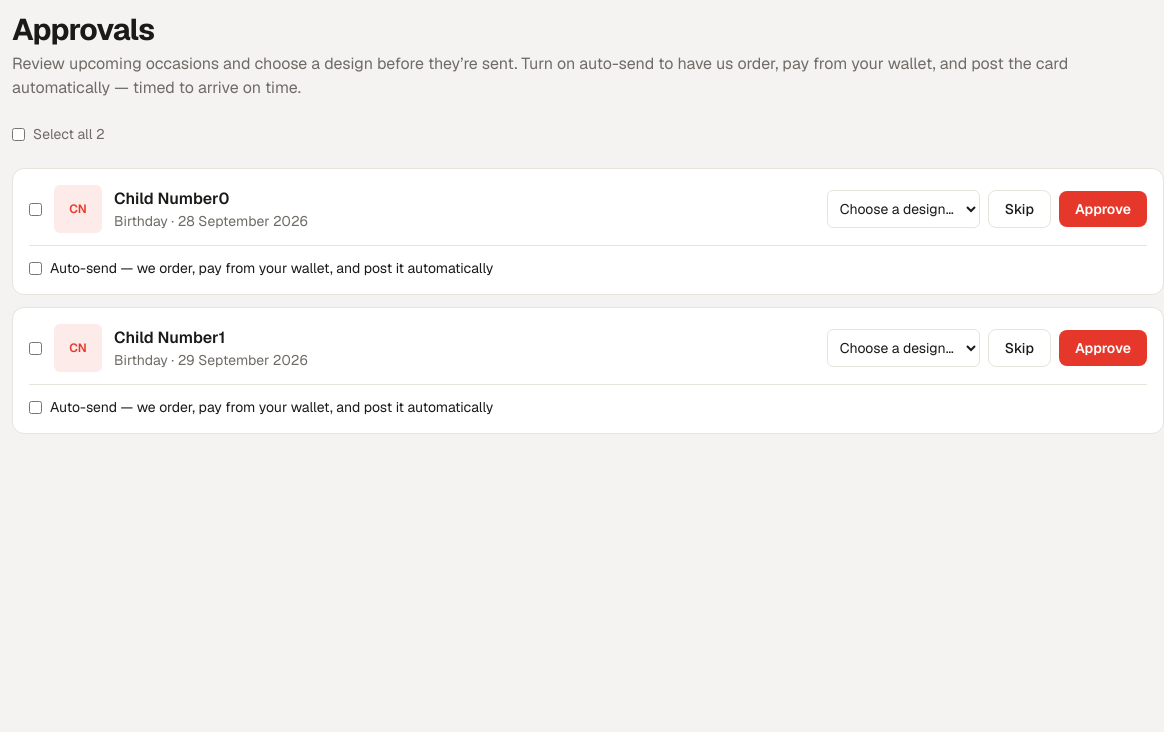
Test: ApprovalsClient › what an approved auto-send card says about itself › shows the design it was actually approved with, not a placeholder
Click the checkbox labelled "Select all 2" at (18, 134), box [12, 128, 25, 140]
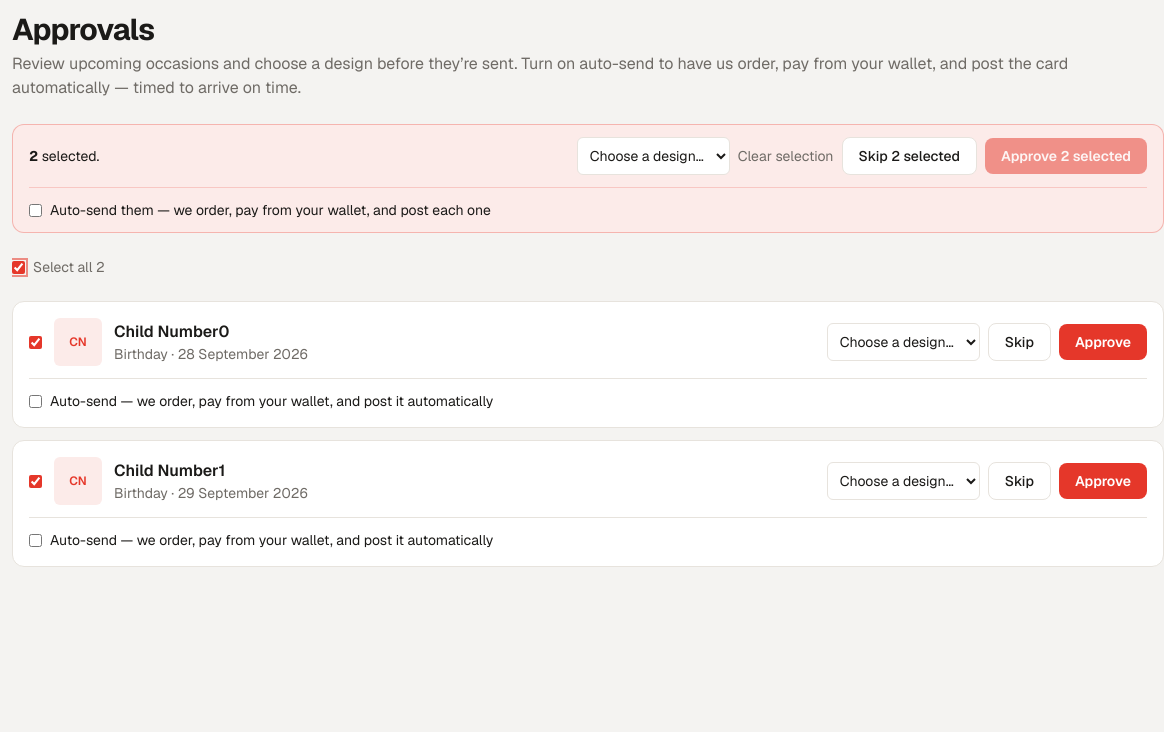
Select "Well Done" in the dropdown named "Design to approve the selected cards with" at (653, 156), box [577, 137, 730, 175]
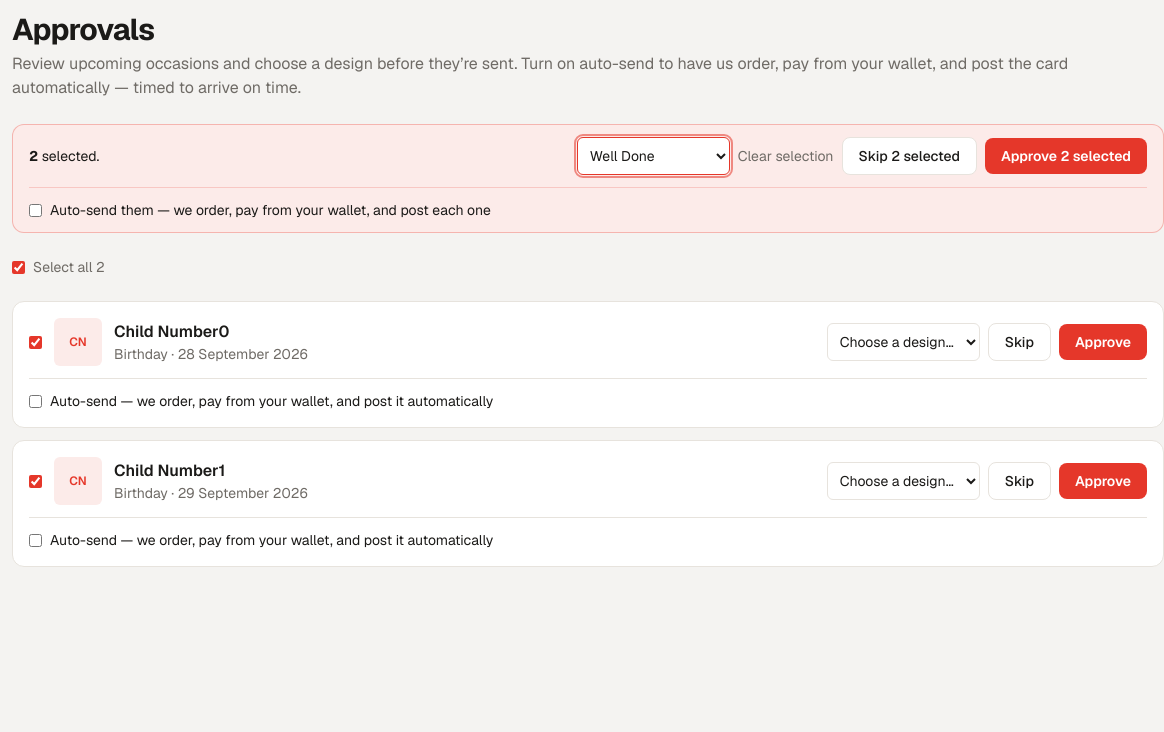
Click the checkbox labelled "Auto-send them" at (36, 210), box [29, 204, 42, 216]
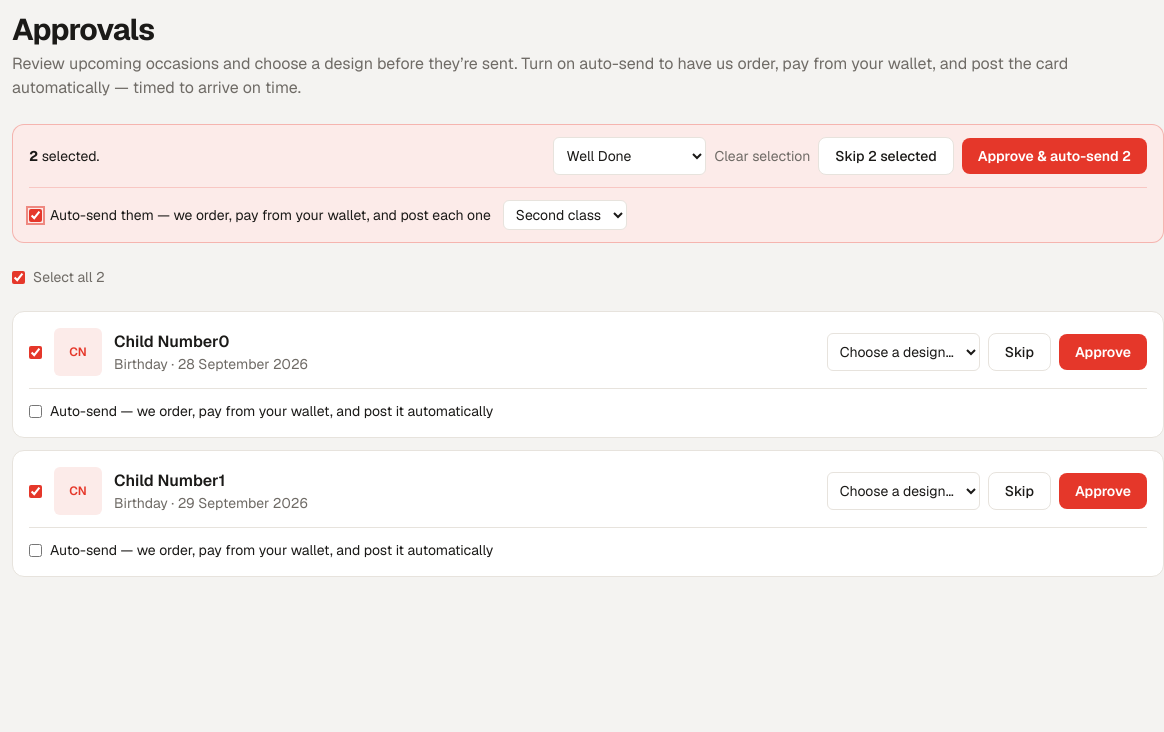
Click the button "Approve & auto-send 2" at (1054, 156), box [962, 138, 1147, 174]
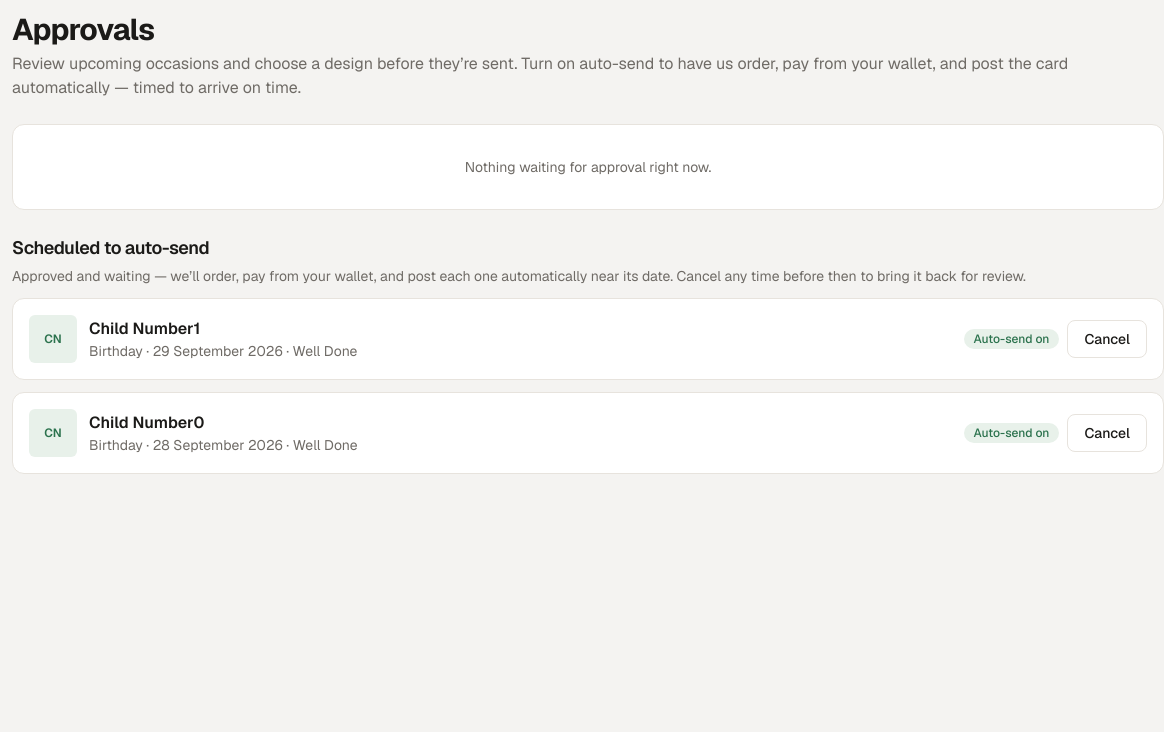
Expected: the text "Auto-send on" in the row of "29 September 2026" is shown, [974, 331, 1050, 347]
Expected: the text "Birthday · 29 September 2026 · Well Done" is shown, [89, 341, 358, 361]
